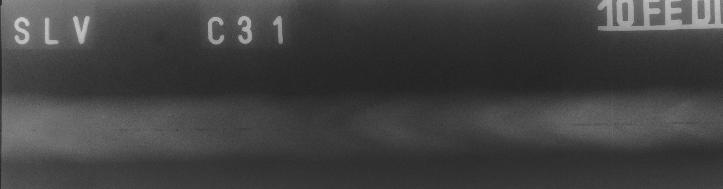FP: (5, 122, 307, 136), (568, 116, 718, 132)
